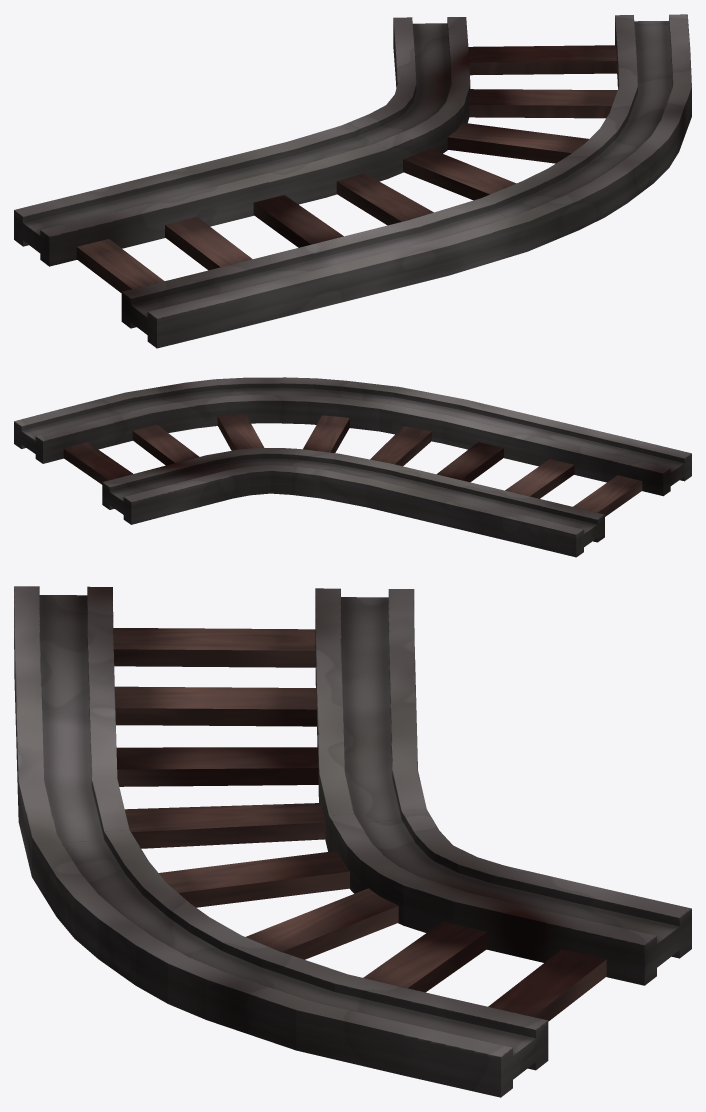
File: railtracks(textured).fbx
3 renders of one model, top to bottom at view 1: azimuth 30°, elevation 25°; view 2: azimuth 150°, elevation 25°; view 3: azimuth 270°, elevation 25°, orthographic. The views are drawn at different scales.
Parts seen in each view (by area): view 1: rails.001; view 2: rails.001; view 3: rails.001.
Boxes of the visible parts, box(x1,y1,x2,y2) form: rails.001: box(14, 14, 691, 348); rails.001: box(14, 377, 691, 557); rails.001: box(14, 586, 691, 1097).
Bounding box in the file's own units: 948 × 38.01 × 577.
1 material, 1 textured.
